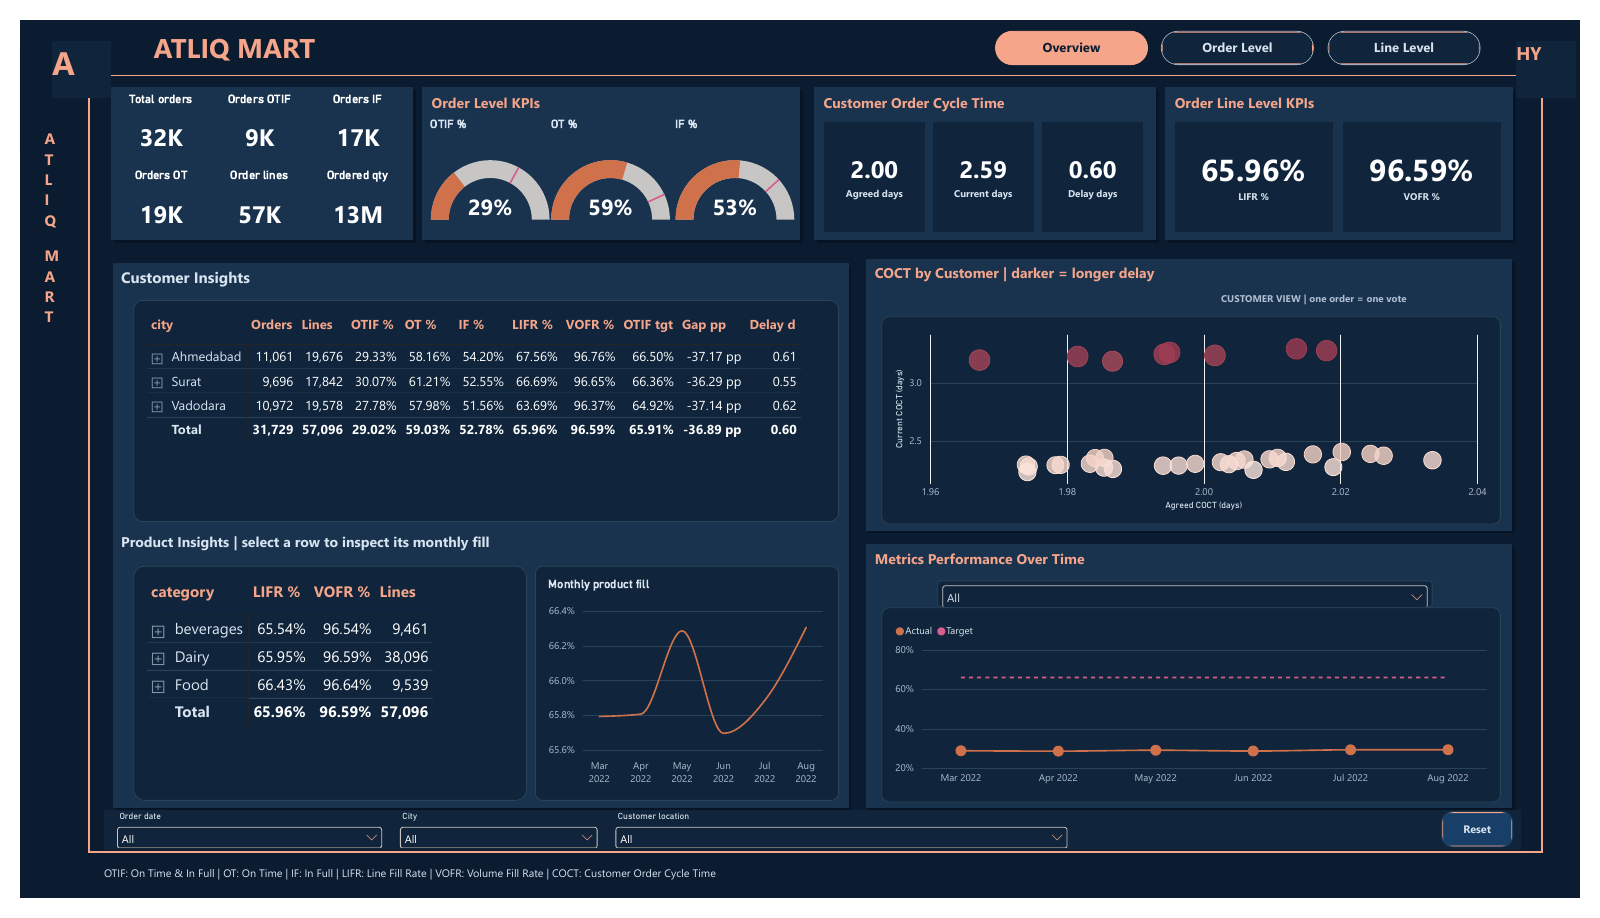

The page's visual inventory and layout, read from the dashboard file:
{"tool":"powerbi","page":{"name":"Overview","canvas":[1920,1080],"ordinal":0},"visuals":[{"type":"shape","box":[119,304,904.3,669.6],"z":0},{"type":"shape","box":[117.1,86.9,370.6,187.9],"z":1000},{"type":"shape","box":[499.2,86.9,464.6,187.9],"z":2000},{"type":"shape","box":[981.1,86.9,420.5,187.9],"z":3000},{"type":"shape","box":[1413.1,86.9,428.2,187.9],"z":4000},{"type":"shape","box":[1044.5,297.5,794.9,334.8],"z":5000},{"type":"shape","box":[1044.5,648.5,794.9,325.1],"z":6000},{"type":"shape","box":[115.2,300.2,904.3,669.6],"z":7000},{"type":"shape","box":[113.3,83.2,370.6,187.9],"z":8000},{"type":"shape","box":[495.4,83.2,464.6,187.9],"z":9000},{"type":"shape","box":[977.3,83.2,420.5,187.9],"z":10000},{"type":"shape","box":[1409.3,83.2,428.2,187.9],"z":11000},{"type":"shape","box":[1040.6,293.8,794.9,334.8],"z":12000},{"type":"shape","box":[1040.6,644.8,794.9,325.1],"z":13000},{"type":"shape","box":[84.5,68,1789.4,2.4],"z":14000},{"type":"shape","box":[84.5,1022.5,1789.4,2.4],"z":15000},{"type":"shape","box":[84.5,68,2.5,956.9],"z":16000},{"type":"shape","box":[1871.4,68,2.5,956.9],"z":17000},{"type":"shape","box":[103.7,972,1743.4,48.6],"z":18000},{"type":"card","title":"Orders IF","fields":{"Values":["fact_orders_aggregate.Orders In Full"]},"box":[359,89.6,115.2,79.9],"z":19000},{"type":"card","title":"Order lines","fields":{"Values":["fact_order_lines.Total Order Lines"]},"box":[238.1,183.6,115.2,79.9],"z":20000},{"type":"card","title":"Ordered qty","fields":{"Values":["fact_order_lines.Ordered Qty"]},"box":[359,183.6,115.2,79.9],"z":21000},{"type":"card","title":"Orders OT","fields":{"Values":["fact_orders_aggregate.Orders On Time"]},"box":[117.1,183.6,115.2,79.9],"z":22000},{"type":"card","title":"Orders OTIF","fields":{"Values":["fact_orders_aggregate.Orders OTIF"]},"box":[238.1,89.6,115.2,79.9],"z":23000},{"type":"card","title":"Total orders","fields":{"Values":["fact_orders_aggregate.Total Orders"]},"box":[117.1,89.6,115.2,79.9],"z":24000},{"type":"gauge","title":"OTIF %","fields":{"TargetValue":["dim_customers.On Time In Full Target"],"Y":["fact_orders_aggregate.OTIF %"]},"box":[505.9,121,146,145],"z":25000},{"type":"gauge","title":"IF %","fields":{"TargetValue":["dim_customers.In Full Target"],"Y":["fact_orders_aggregate.IF %"]},"box":[807.3,121,146,145],"z":26000},{"type":"gauge","title":"OT %","fields":{"TargetValue":["dim_customers.On Time Target"],"Y":["fact_orders_aggregate.OT %"]},"box":[653.7,121,146,145],"z":27000},{"type":"card","fields":{"Values":["fact_order_lines.Avg Agreed COCT (order)"]},"box":[988.8,126.4,124.8,135],"z":28000},{"type":"card","fields":{"Values":["fact_order_lines.Avg Current COCT (order)"]},"box":[1123.2,126.4,124.8,135],"z":29000},{"type":"card","fields":{"Values":["fact_order_lines.Avg Delay COCT (order)"]},"box":[1257.6,126.4,124.8,135],"z":30000},{"type":"card","fields":{"Values":["fact_order_lines.LIFR %"]},"box":[1420.8,126.4,193.9,135],"z":31000},{"type":"card","fields":{"Values":["fact_order_lines.VOFR %"]},"box":[1628.2,126.4,193.9,135],"z":32000},{"type":"pivotTable","fields":{"Rows":["dim_customers.city","dim_customers.location_label"],"Values":["fact_orders_aggregate.Total Orders","fact_order_lines.Total Order Lines","fact_orders_aggregate.OTIF %","fact_orders_aggregate.OT %","fact_orders_aggregate.IF %","fact_order_lines.LIFR %","fact_order_lines.VOFR %","dim_customers.On Time In Full Target","dim_customers.OTIF Gap pp","fact_order_lines.Avg Delay COCT (order)"]},"box":[140.2,344.5,867.8,273.2],"z":33000},{"type":"pivotTable","fields":{"Rows":["dim_products.category","dim_products.product_name"],"Values":["fact_order_lines.LIFR %","fact_order_lines.VOFR %","fact_order_lines.Total Order Lines"]},"box":[140.2,671.8,483.8,289.4],"z":34000},{"type":"lineChart","title":"Monthly product fill","fields":{"Category":["dim_date.month_label"],"Y":["Product Metric Selector.Product Selected Rate"]},"box":[633.6,671.8,374.4,289.4],"z":35000},{"type":"scatterChart","fields":{"Category":["dim_customers.location_label"],"Size":["fact_orders_aggregate.Total Orders"],"X":["fact_order_lines.Avg Agreed COCT (order)"],"Y":["fact_order_lines.Avg Current COCT (order)"]},"box":[1059.8,365,762.2,256],"z":36000},{"type":"lineChart","fields":{"Category":["dim_date.Date Hierarchy.month_label","dim_date.Date Hierarchy.week_segment_label","dim_date.Date Hierarchy.date"],"Y":["Metric Selector.Selected Rate","Metric Selector.Selected Target"]},"box":[1059.8,722.5,762.2,240.8],"z":37000},{"type":"textbox","box":[124.8,304.6,867.8,29.2],"z":38000},{"type":"textbox","box":[1478.4,332.6,326.4,27],"z":39000},{"type":"textbox","box":[124.8,629.6,867.8,29.2],"z":40000},{"type":"textbox","box":[40.3,25.9,73,71.3],"z":41000},{"type":"textbox","box":[1841.3,25.9,73,70.2],"z":42000},{"type":"textbox","box":[506.9,89.6,441.6,29.2],"z":44000},{"type":"textbox","box":[988.8,89.6,397.4,29.2],"z":45000},{"type":"textbox","box":[1420.8,89.6,405.1,29.2],"z":46000},{"type":"textbox","box":[1052.2,300.2,771.8,29.2],"z":47000},{"type":"textbox","box":[1052.2,651.2,771.8,29.2],"z":48000},{"type":"textbox","box":[103.7,1040,1724.2,25.9],"z":49000},{"type":"textbox","box":[165.1,11.9,307.2,51.8],"z":50000},{"type":"textbox","box":[30.7,133.9,46.1,321.8],"z":51000},{"type":"slicer","fields":{"Values":["Metric Selector.metric_label"]},"box":[1129,690.1,608.6,32.4],"z":52000},{"type":"slicer","fields":{"Values":["dim_customers.city"]},"box":[462.7,974.2,253.4,44.3],"z":53000},{"type":"slicer","fields":{"Values":["dim_customers.location_label"]},"box":[727.7,974.2,566.4,44.3],"z":54000},{"type":"slicer","fields":{"Values":["dim_date.date"]},"box":[115.2,974.2,336,44.3],"z":55000},{"type":"actionButton","box":[1609,14,188.2,42.1],"z":56000},{"type":"actionButton","box":[1403.5,14,188.2,42.1],"z":57000},{"type":"actionButton","box":[1200,14,188.2,42.1],"z":58000},{"type":"actionButton","box":[1749.1,974.2,88.3,44.3],"z":59000}]}

Visuals, with their boxes in screenshot pixels (x1, y1, x2, y2), scaled from the page's 1920x1080 canvas onto the 1600x918 screenshot:
shape: bbox(99, 258, 853, 828)
shape: bbox(98, 74, 406, 234)
shape: bbox(416, 74, 803, 234)
shape: bbox(818, 74, 1168, 234)
shape: bbox(1178, 74, 1534, 234)
shape: bbox(870, 253, 1533, 537)
shape: bbox(870, 551, 1533, 828)
shape: bbox(96, 255, 850, 824)
shape: bbox(94, 71, 403, 230)
shape: bbox(413, 71, 800, 230)
shape: bbox(814, 71, 1165, 230)
shape: bbox(1174, 71, 1531, 230)
shape: bbox(867, 250, 1530, 534)
shape: bbox(867, 548, 1530, 824)
shape: bbox(70, 58, 1562, 60)
shape: bbox(70, 869, 1562, 871)
shape: bbox(70, 58, 72, 871)
shape: bbox(1560, 58, 1562, 871)
shape: bbox(86, 826, 1539, 868)
"Orders IF" card: bbox(299, 76, 395, 144)
"Order lines" card: bbox(198, 156, 294, 224)
"Ordered qty" card: bbox(299, 156, 395, 224)
"Orders OT" card: bbox(98, 156, 194, 224)
"Orders OTIF" card: bbox(198, 76, 294, 144)
"Total orders" card: bbox(98, 76, 194, 144)
"OTIF %" gauge: bbox(422, 103, 543, 226)
"IF %" gauge: bbox(673, 103, 794, 226)
"OT %" gauge: bbox(545, 103, 666, 226)
card - fact_order_lines.Avg Agreed COCT (order): bbox(824, 107, 928, 222)
card - fact_order_lines.Avg Current COCT (order): bbox(936, 107, 1040, 222)
card - fact_order_lines.Avg Delay COCT (order): bbox(1048, 107, 1152, 222)
card - fact_order_lines.LIFR %: bbox(1184, 107, 1346, 222)
card - fact_order_lines.VOFR %: bbox(1357, 107, 1518, 222)
pivotTable - dim_customers.city x dim_customers.location_label: bbox(117, 293, 840, 525)
pivotTable - dim_products.category x dim_products.product_name: bbox(117, 571, 520, 817)
"Monthly product fill" lineChart: bbox(528, 571, 840, 817)
scatterChart - dim_customers.location_label x fact_orders_aggregate.Total Orders: bbox(883, 310, 1518, 528)
lineChart - dim_date.Date Hierarchy.month_label x dim_date.Date Hierarchy.week_segment_label: bbox(883, 614, 1518, 819)
textbox: bbox(104, 259, 827, 284)
textbox: bbox(1232, 283, 1504, 306)
textbox: bbox(104, 535, 827, 560)
textbox: bbox(34, 22, 94, 83)
textbox: bbox(1534, 22, 1595, 82)
textbox: bbox(422, 76, 790, 101)
textbox: bbox(824, 76, 1155, 101)
textbox: bbox(1184, 76, 1522, 101)
textbox: bbox(877, 255, 1520, 280)
textbox: bbox(877, 554, 1520, 578)
textbox: bbox(86, 884, 1523, 906)
textbox: bbox(138, 10, 394, 54)
textbox: bbox(26, 114, 64, 387)
slicer - Metric Selector.metric_label: bbox(941, 587, 1448, 614)
slicer - dim_customers.city: bbox(386, 828, 597, 866)
slicer - dim_customers.location_label: bbox(606, 828, 1078, 866)
slicer - dim_date.date: bbox(96, 828, 376, 866)
actionButton: bbox(1341, 12, 1498, 48)
actionButton: bbox(1170, 12, 1326, 48)
actionButton: bbox(1000, 12, 1157, 48)
actionButton: bbox(1458, 828, 1531, 866)
